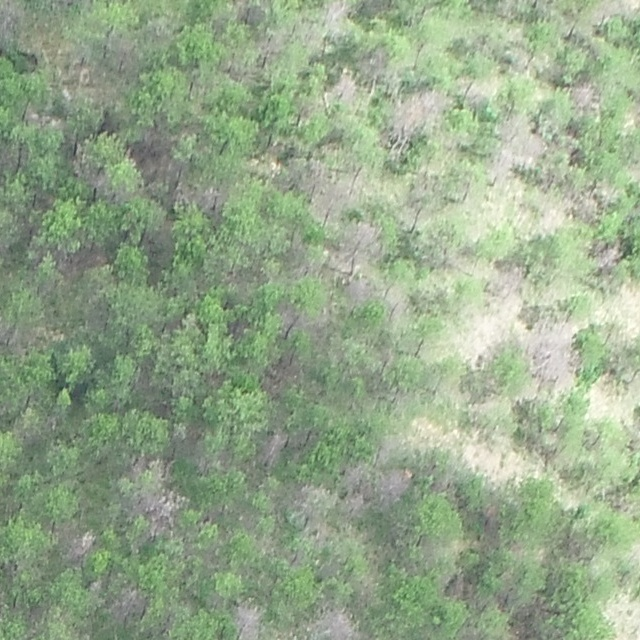unhealthy: (301, 160, 363, 220), (525, 319, 582, 384), (389, 88, 450, 144), (328, 218, 384, 273), (493, 113, 546, 170), (130, 125, 176, 177), (128, 488, 183, 530), (308, 604, 363, 640), (290, 480, 329, 528), (535, 187, 568, 236), (487, 262, 528, 301), (109, 581, 147, 623), (263, 353, 301, 394), (103, 29, 139, 72), (458, 72, 502, 107), (377, 466, 414, 506), (59, 525, 96, 563), (566, 182, 601, 221), (232, 600, 263, 640), (381, 281, 410, 322), (256, 430, 287, 468), (357, 45, 390, 80), (220, 55, 256, 85), (0, 0, 24, 44), (255, 26, 289, 57), (568, 79, 599, 112), (329, 71, 359, 104), (341, 459, 371, 491), (591, 241, 623, 270), (440, 248, 475, 274), (322, 0, 353, 28), (276, 301, 303, 333), (197, 181, 226, 210), (124, 453, 156, 479), (341, 489, 369, 518), (486, 152, 513, 182), (442, 572, 470, 599), (308, 520, 335, 548), (345, 279, 373, 304), (480, 502, 500, 530)
